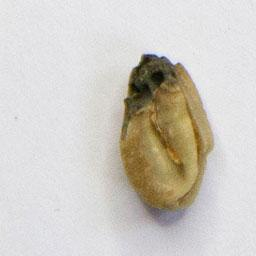defect: (117, 51, 218, 215)
